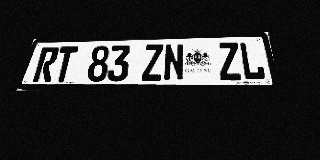3: (107, 45, 130, 82)
8: (86, 45, 111, 82)
L: (238, 42, 266, 80)
N: (163, 44, 184, 81)
R: (32, 47, 60, 82)
T: (51, 46, 78, 82)
Z: (217, 42, 242, 81), (142, 44, 163, 81)
